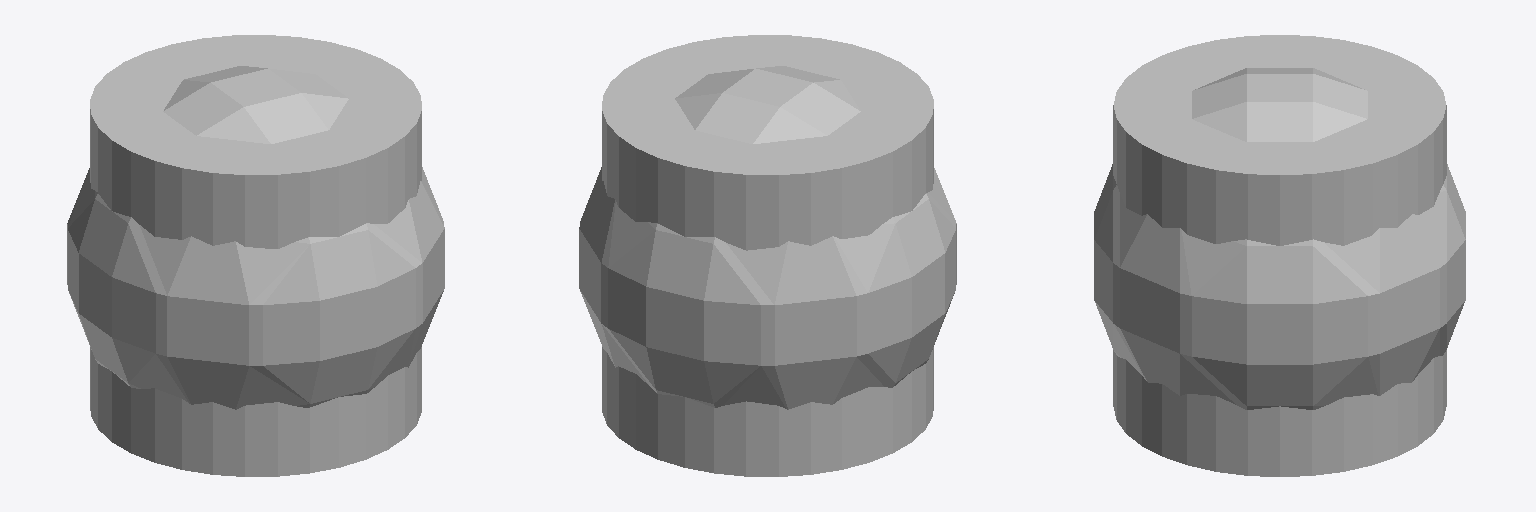
3 renders of one model, left to right at view 1: azimuth 30°, elevation 25°; view 2: azimuth 150°, elevation 25°; view 3: azimuth 270°, elevation 25°, orthographic.
Parts seen in each view (by area): view 1: Cylinder, Mball; view 2: Cylinder, Mball; view 3: Cylinder, Mball.
Part boxes in pixels (x1,y1,x2,y2): Cylinder: (90, 35, 421, 476); Mball: (67, 66, 444, 409); Cylinder: (602, 35, 933, 476); Mball: (579, 66, 956, 409); Cylinder: (1113, 35, 1446, 476); Mball: (1094, 68, 1465, 409).
Bounding box in the file's own units: 2.23 × 2.23 × 2.23.